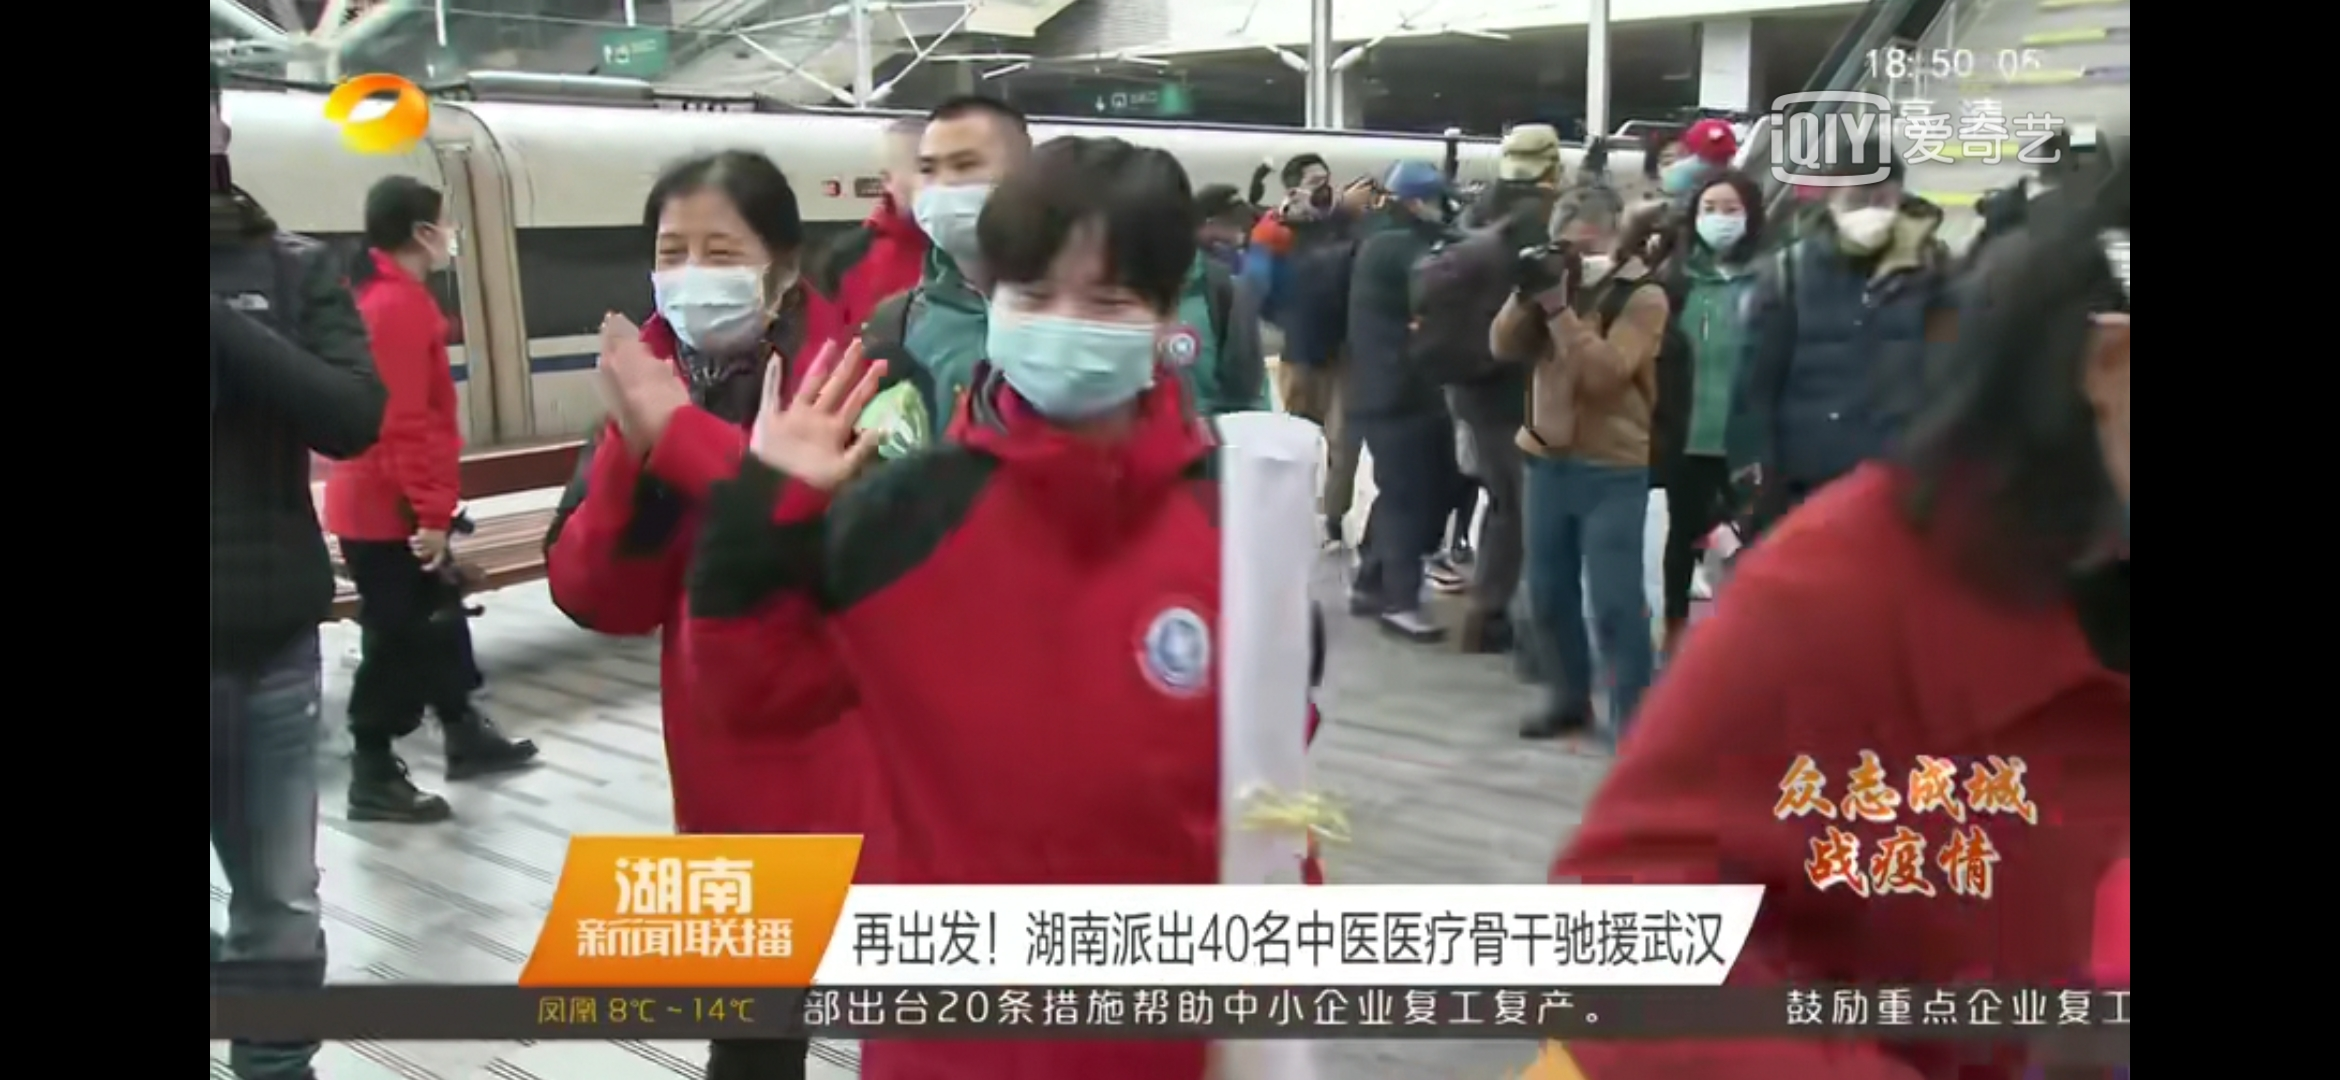correctlyWear: (980, 258, 1171, 442), (648, 213, 780, 362), (907, 134, 1004, 263), (1836, 189, 1895, 255), (1568, 222, 1615, 301), (1695, 192, 1751, 258), (412, 209, 457, 271), (1286, 166, 1336, 213)
